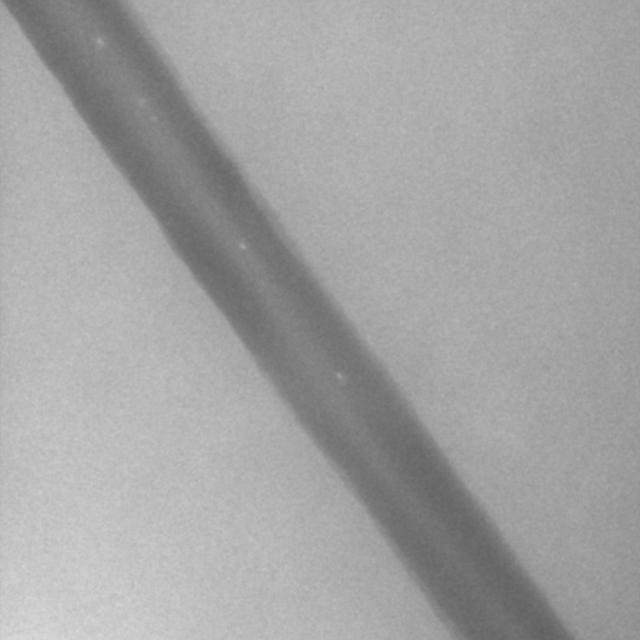air hole: (238, 239, 249, 255), (334, 368, 345, 382), (94, 34, 105, 47)
